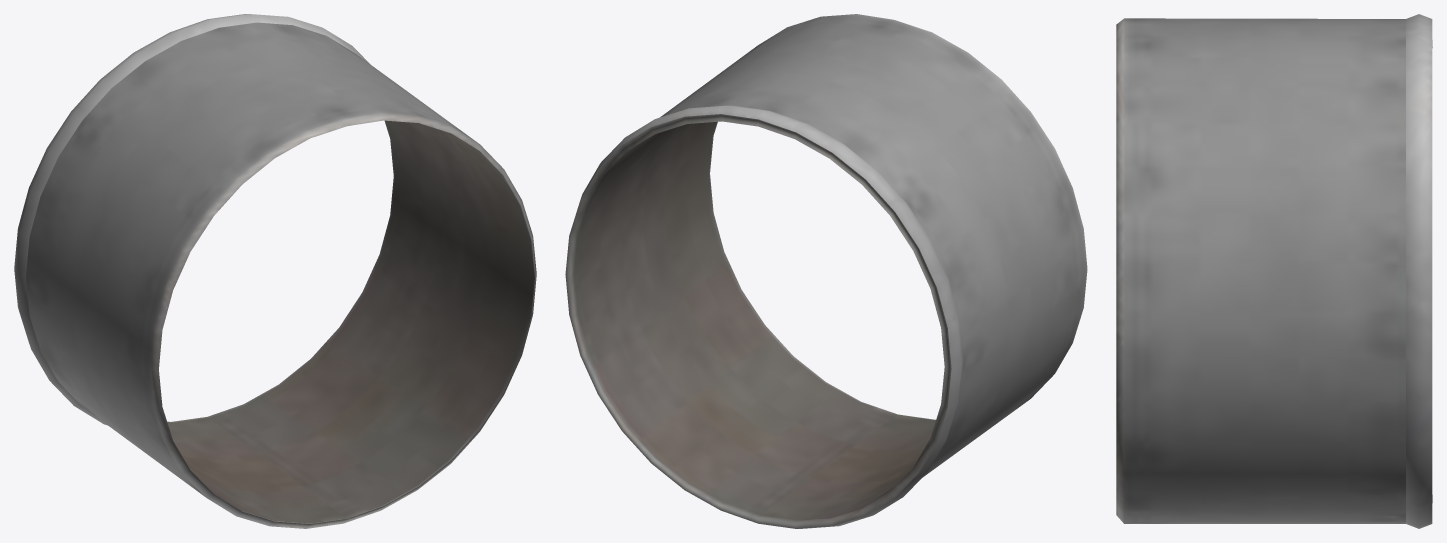
File: circular_smooth_single.gltf
The picture shows the model from 3 angles, left to right: view 1: azimuth 30°, elevation 25°; view 2: azimuth 150°, elevation 25°; view 3: azimuth 270°, elevation 25°; orthographic projection. The views are drawn at different scales.
Parts seen in each view (by area): view 1: circular_smooth_single; view 2: circular_smooth_single; view 3: circular_smooth_single.
Boxes of the visible parts, bbox=[...] form: circular_smooth_single: bbox=[14, 14, 536, 528]; circular_smooth_single: bbox=[565, 14, 1087, 528]; circular_smooth_single: bbox=[1116, 14, 1432, 528].
Bounding box in the file's own units: 0.371 × 0.3713 × 0.2276.
1 material, 1 textured.
